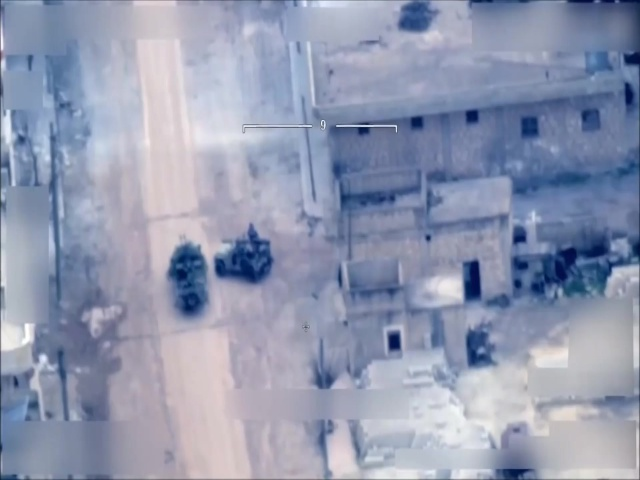vehicle: (165, 240, 211, 315), (212, 234, 275, 283)
